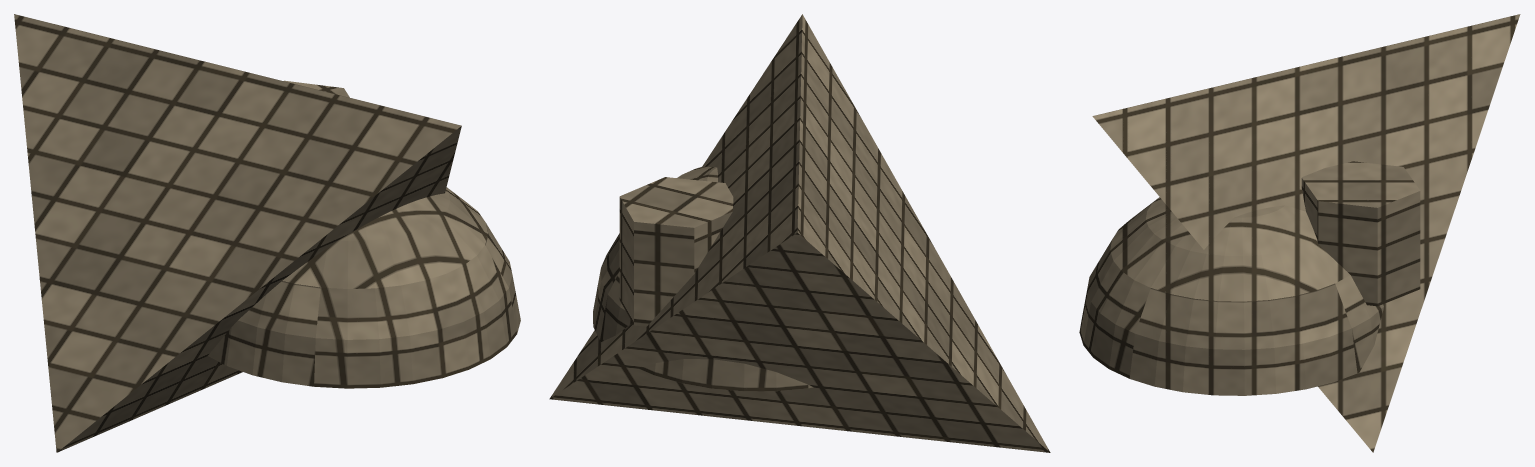
The picture shows the model from 3 angles, left to right: view 1: azimuth 30°, elevation 25°; view 2: azimuth 150°, elevation 25°; view 3: azimuth 270°, elevation 25°; orthographic projection. The views are drawn at different scales.
Parts seen in each view (by area): view 1: geometry_0; view 2: geometry_0; view 3: geometry_0.
Boxes of the visible parts, x1,y1,x2,y2 form: geometry_0: [14, 14, 520, 452]; geometry_0: [549, 14, 1050, 452]; geometry_0: [1079, 14, 1520, 452].
Size of the model in its own units: 2.19 by 1.45 by 2.01.
1 material, 1 textured.
